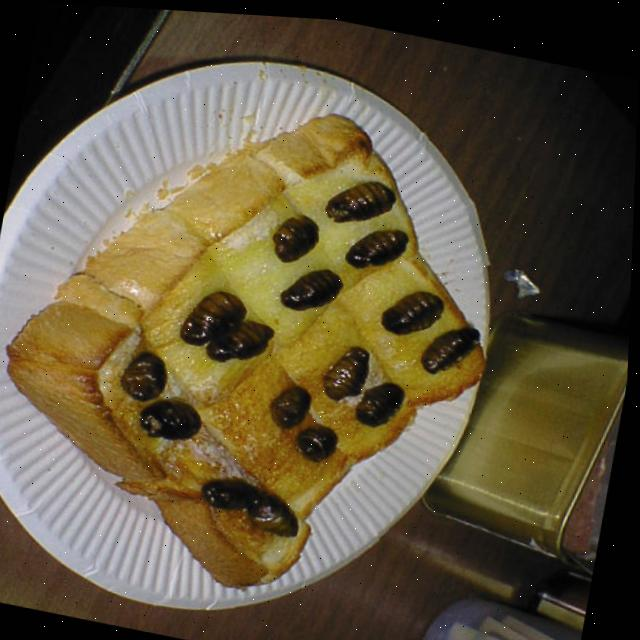面包点心: (0, 50, 549, 635)
